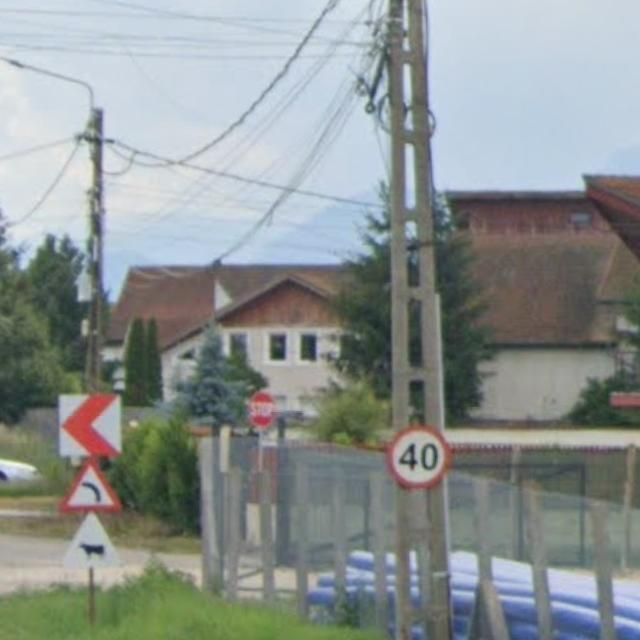forb_speed_over_40: (387, 426, 449, 489)
prio_stop: (249, 393, 275, 427)
